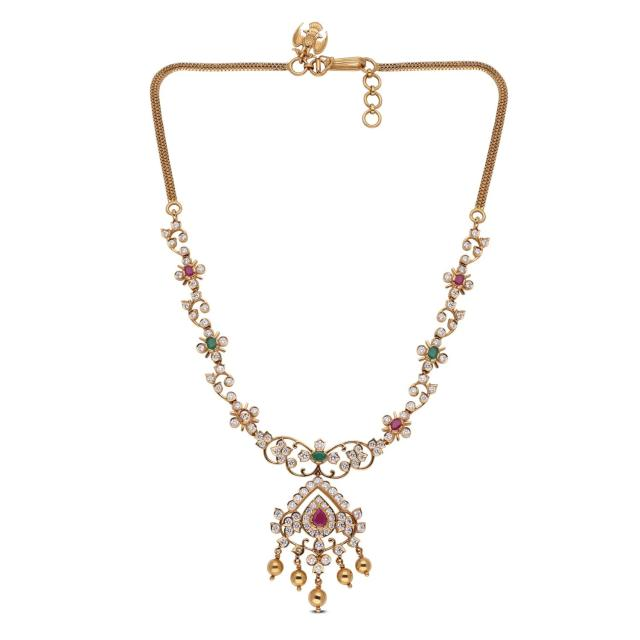missing gem: (239, 410, 252, 422), (295, 547, 302, 555)
